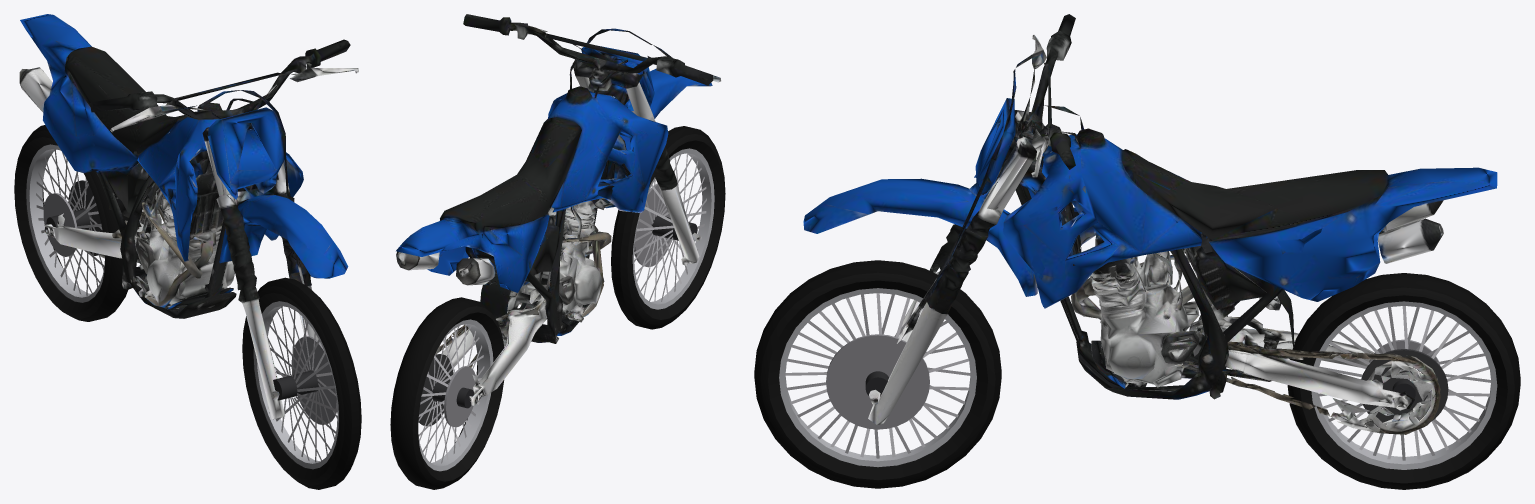
File: dirt-bike.glb
The picture shows the model from 3 angles, left to right: view 1: azimuth 30°, elevation 25°; view 2: azimuth 150°, elevation 25°; view 3: azimuth 270°, elevation 25°; orthographic projection. The views are drawn at different scales.
Parts seen in each view (by area): view 1: body, steer, wheel_f, wheel_r; view 2: body, wheel_r, wheel_f, steer; view 3: body, wheel_f, wheel_r, steer.
Part boxes in pixels (x1=…): body: x1=19, y1=14, x2=303, y2=318; steer: x1=90, y1=39, x2=358, y2=419; wheel_f: x1=242, y1=277, x2=361, y2=489; wheel_r: x1=14, y1=125, x2=128, y2=321; body: x1=396, y1=50, x2=668, y2=422; wheel_r: x1=390, y1=297, x2=504, y2=489; wheel_f: x1=611, y1=126, x2=725, y2=329; steer: x1=463, y1=14, x2=721, y2=265; body: x1=959, y1=111, x2=1497, y2=434; wheel_f: x1=754, y1=260, x2=1001, y2=488; wheel_r: x1=1287, y1=273, x2=1520, y2=489; steer: x1=803, y1=14, x2=1079, y2=424.
Bounding box in the file's own units: 0.9675 × 1.27 × 2.18.
Materials: 2 (2 with a texture image).
